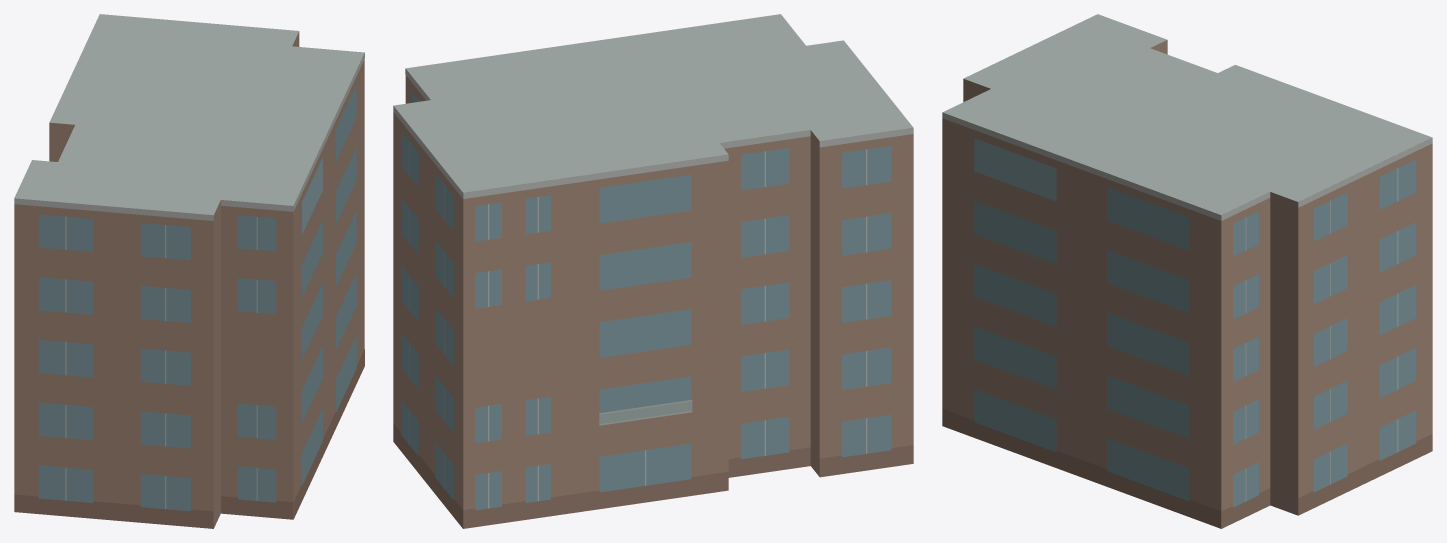
File: survey-upis-32939065.glb
3 renders of one model, left to right at view 1: azimuth 30°, elevation 25°; view 2: azimuth 150°, elevation 25°; view 3: azimuth 270°, elevation 25°, orthographic. The views are drawn at different scales.
Parts seen in each view (by area): view 1: survey-upis-32939065.tmp; view 2: survey-upis-32939065.tmp; view 3: survey-upis-32939065.tmp.
Part boxes in pixels (left/top/right/bottom): survey-upis-32939065.tmp: left=14, top=14, right=364, bottom=528; survey-upis-32939065.tmp: left=393, top=14, right=913, bottom=528; survey-upis-32939065.tmp: left=942, top=14, right=1432, bottom=528.
Size of the model in its own units: 18.03 by 13.1 by 18.57.
